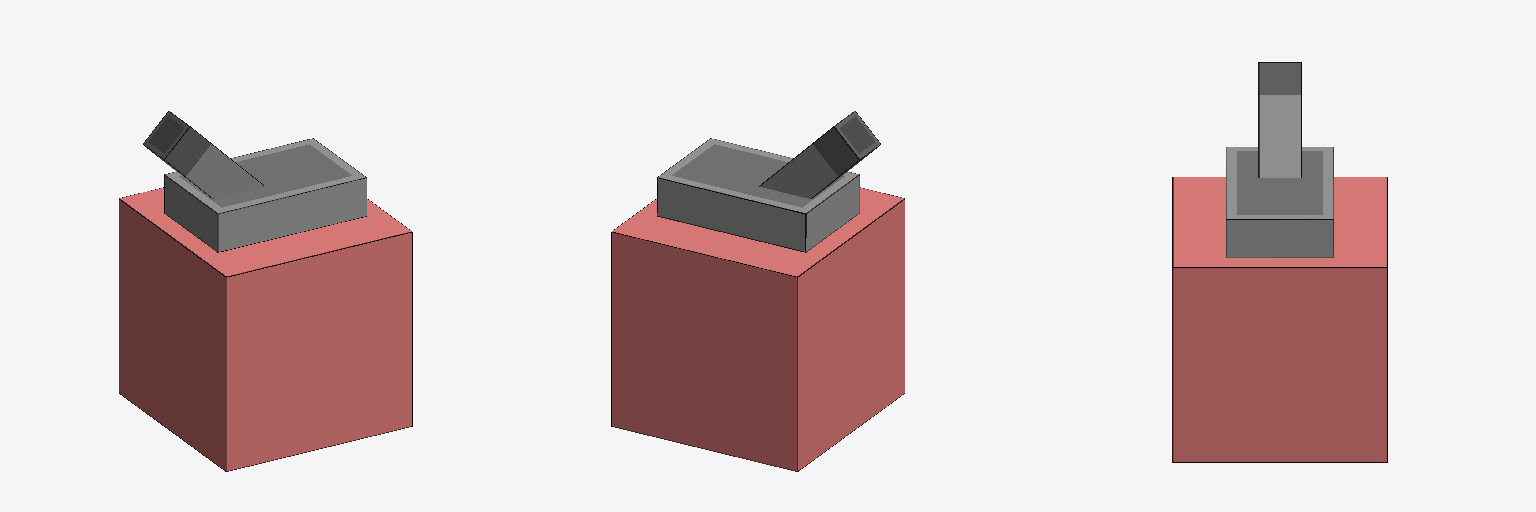
The picture shows the model from 3 angles: view 1: azimuth 30°, elevation 25°; view 2: azimuth 150°, elevation 25°; view 3: azimuth 270°, elevation 25°; orthographic projection.
Visible parts, largest first — view 1: 立方体.002; view 2: 立方体.002; view 3: 立方体.002.
Boxes of the visible parts, <box> form: 立方体.002: <box>119,111,412,471</box>; 立方体.002: <box>611,111,904,471</box>; 立方体.002: <box>1172,62,1387,462</box>.
Size of the model in its own units: 2.21 by 3.21 by 2.
Materials: 1 (1 with a texture image).